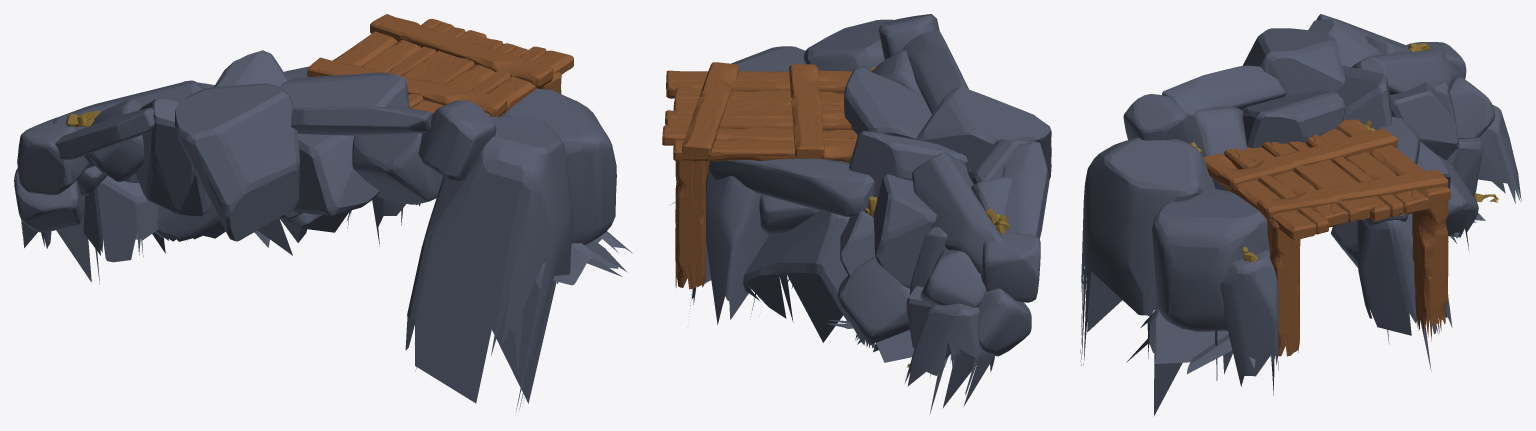
Rendered from miner.fbx.
3 renders of one model, left to right at view 1: azimuth 30°, elevation 25°; view 2: azimuth 150°, elevation 25°; view 3: azimuth 270°, elevation 25°, orthographic. The views are drawn at different scales.
Parts seen in each view (by area): view 1: Cube.061; view 2: Cube.061; view 3: Cube.061.
Boxes of the visible parts, x1,y1,x2,y2 form: Cube.061: (14, 14, 632, 412); Cube.061: (662, 14, 1051, 414); Cube.061: (1080, 14, 1521, 415).
Bounding box in the file's own units: 106 × 64.48 × 89.94.
